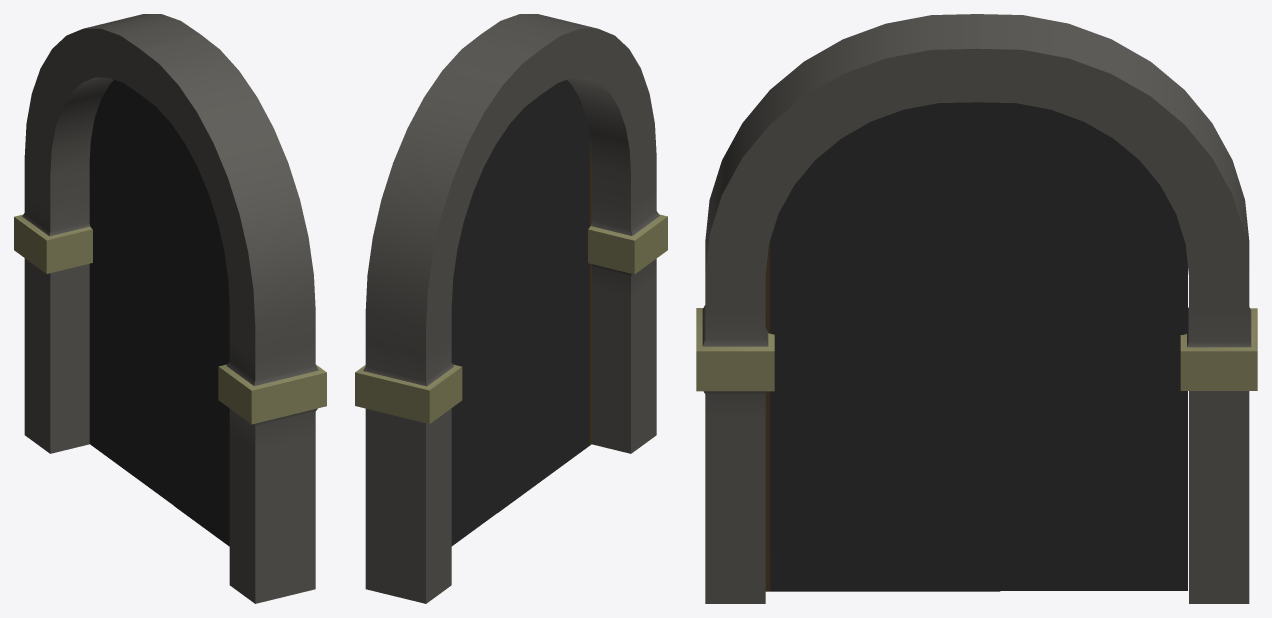
Rendered from Öppen_dörr.fbx.
3 renders of one model, left to right at view 1: azimuth 30°, elevation 25°; view 2: azimuth 150°, elevation 25°; view 3: azimuth 270°, elevation 25°, orthographic. The views are drawn at different scales.
Visible parts, largest first — view 1: pCube34; view 2: pCube34; view 3: pCube34.
Boxes of the visible parts, box(x1,y1,x2,y2) form: pCube34: box(14, 14, 326, 603); pCube34: box(355, 14, 667, 603); pCube34: box(696, 14, 1257, 603).
Bounding box in the file's own units: 1.11 × 6.63 × 6.07.
